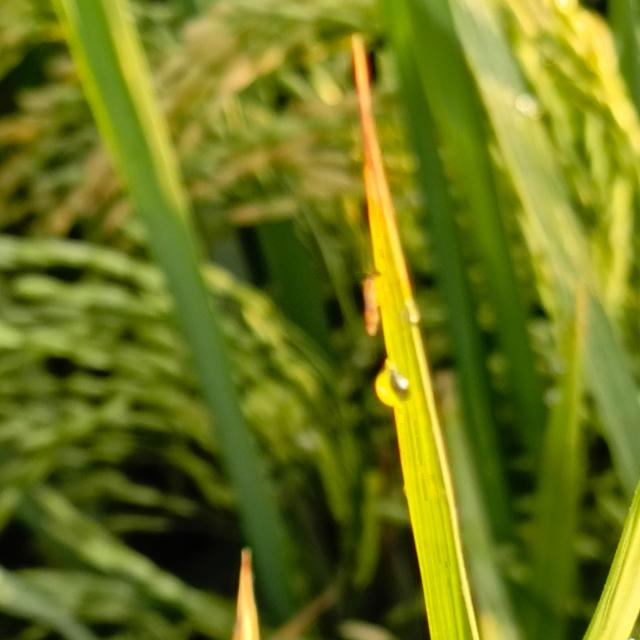Brown spot: (337, 28, 417, 239)
